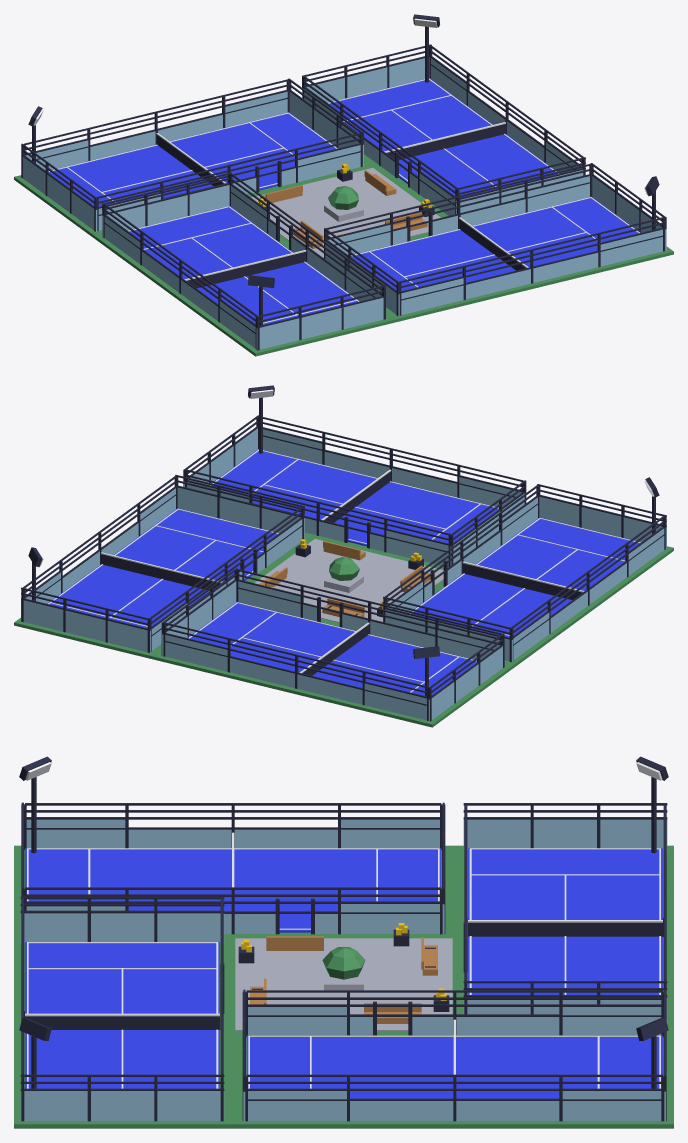
Rendered from padel-3x3.glb.
The picture shows the model from 3 angles, top to bottom: view 1: azimuth 30°, elevation 25°; view 2: azimuth 150°, elevation 25°; view 3: azimuth 270°, elevation 25°; orthographic projection. The views are drawn at different scales.
Visible parts, largest first — view 1: padel-3x3; view 2: padel-3x3; view 3: padel-3x3.
Boxes of the visible parts, x1,y1,x2,y2 form: padel-3x3: [14, 14, 673, 356]; padel-3x3: [14, 385, 673, 727]; padel-3x3: [14, 756, 673, 1128].
Size of the model in its own units: 2.98 by 0.4815 by 2.98.
1 material, 1 textured.
